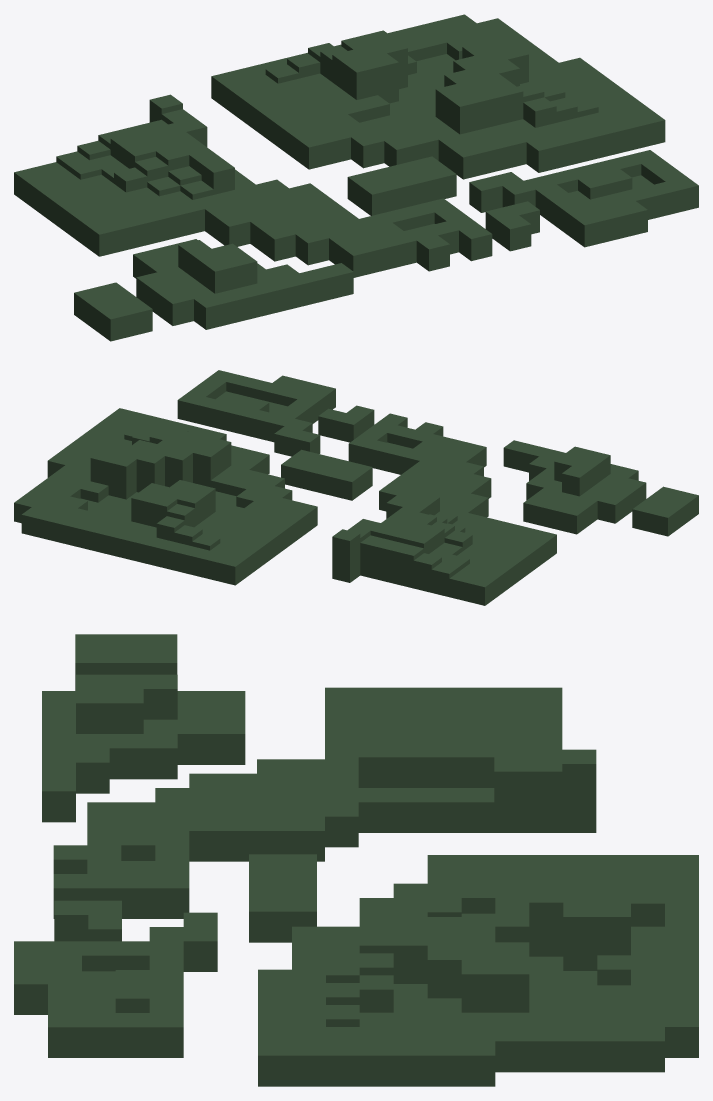
File: map_floor_base (1).fbx
3 views of the same model, one above another, from view 1: azimuth 30°, elevation 25°; view 2: azimuth 150°, elevation 25°; view 3: azimuth 270°, elevation 25° (orthographic). The views are drawn at different scales.
Visible parts, largest first — view 1: Cube.015, Cube.012, Cube.019, Cube.014, Cube.011, Cube, Cube.013; view 2: Cube.015, Cube.012, Cube.019, Cube.014, Cube.011, Cube, Cube.013; view 3: Cube.015, Cube.012, Cube.014, Cube.019, Cube.011, Cube, Cube.013.
Boxes of the visible parts, x1,y1,x2,y2 form: Cube.015: (211, 14, 665, 179); Cube.012: (14, 94, 492, 277); Cube.019: (133, 239, 353, 329); Cube.014: (469, 150, 698, 247); Cube.011: (347, 156, 456, 215); Cube: (74, 282, 152, 341); Cube.013: (485, 201, 539, 251); Cube.015: (14, 408, 317, 585); Cube.012: (332, 413, 556, 605); Cube.019: (503, 440, 646, 534); Cube.014: (177, 370, 335, 456); Cube.011: (281, 449, 372, 500); Cube: (632, 486, 698, 536); Cube.013: (318, 405, 374, 442); Cube.015: (258, 855, 698, 1086); Cube.012: (53, 687, 596, 918); Cube.014: (14, 912, 217, 1057); Cube.019: (42, 674, 245, 822); Cube.011: (249, 854, 316, 942); Cube: (75, 634, 177, 690); Cube.013: (54, 900, 121, 941).
Bounding box in the file's own units: 2939 × 225 × 2019.
